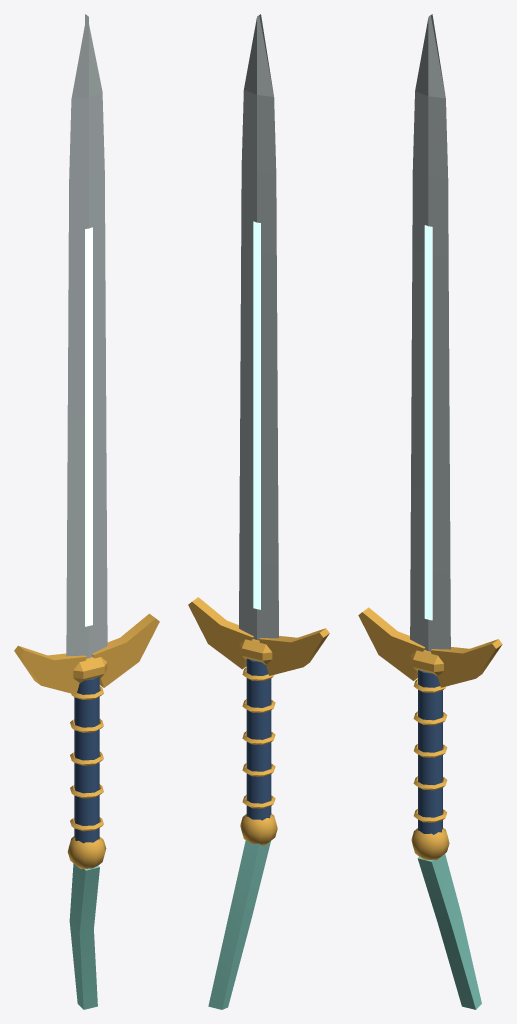
File: sword_wind.glb
The picture shows the model from 3 angles, left to right: view 1: azimuth 30°, elevation 25°; view 2: azimuth 150°, elevation 25°; view 3: azimuth 330°, elevation 25°; orthographic projection. The views are drawn at different scales.
Visible parts, largest first — view 1: Sword; view 2: Sword; view 3: Sword.
Part boxes in pixels (x1,y1,x2,y2): Sword: (14,14,159,1009); Sword: (188,14,329,1009); Sword: (358,14,502,1009).
Size of the model in its own units: 0.1957 by 1.36 by 0.0814.
